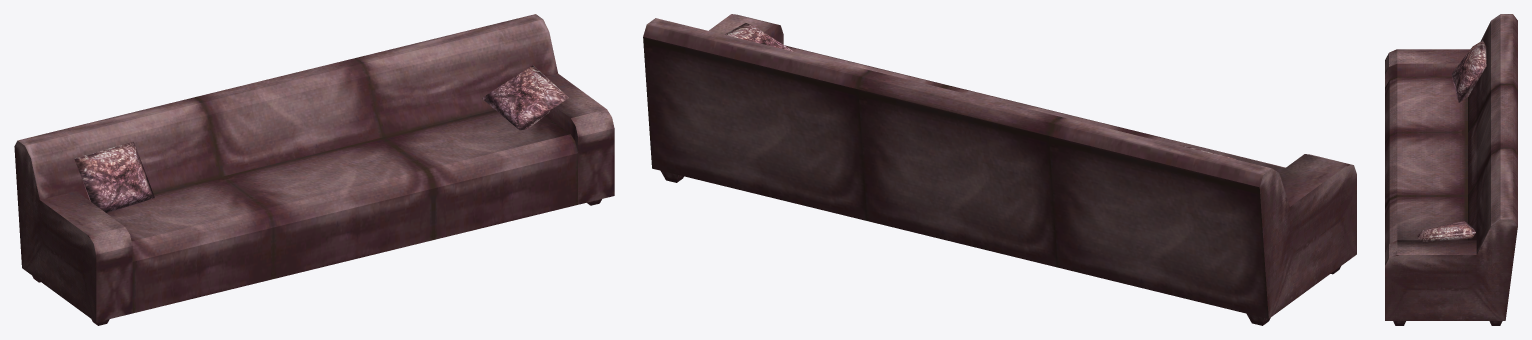
File: gen_couch01.fbx
3 views of the same model, side by side, from view 1: azimuth 30°, elevation 25°; view 2: azimuth 150°, elevation 25°; view 3: azimuth 270°, elevation 25° (orthographic). The views are drawn at different scales.
Visible parts, largest first — view 1: mesh_0, mesh_1, mesh_2; view 2: mesh_0, mesh_2; view 3: mesh_0, mesh_1, mesh_2.
Boxes of the visible parts, x1,y1,x2,y2 form: mesh_0: [14, 14, 614, 325]; mesh_1: [74, 141, 154, 212]; mesh_2: [482, 65, 568, 130]; mesh_0: [643, 14, 1356, 325]; mesh_2: [724, 23, 793, 51]; mesh_0: [1385, 14, 1517, 325]; mesh_1: [1451, 40, 1486, 102]; mesh_2: [1417, 221, 1475, 241].
Bounding box in the file's own units: 401 × 99.5 × 109.
1 material, 1 textured.
